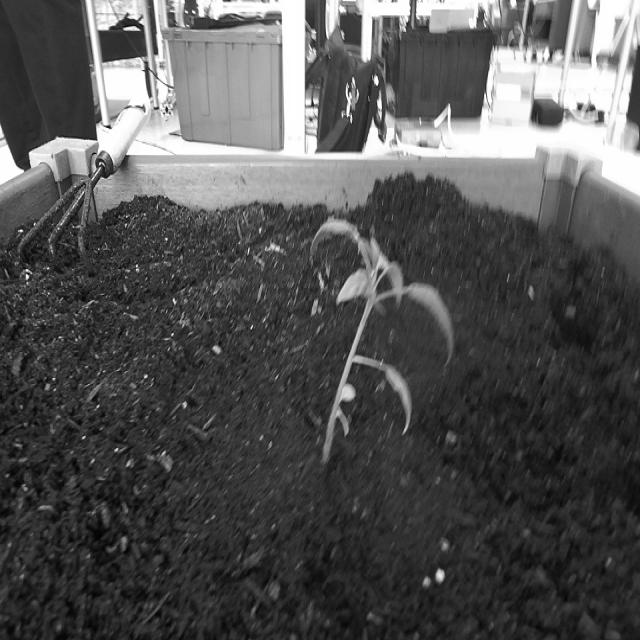Healthy: (305, 215, 463, 474)
